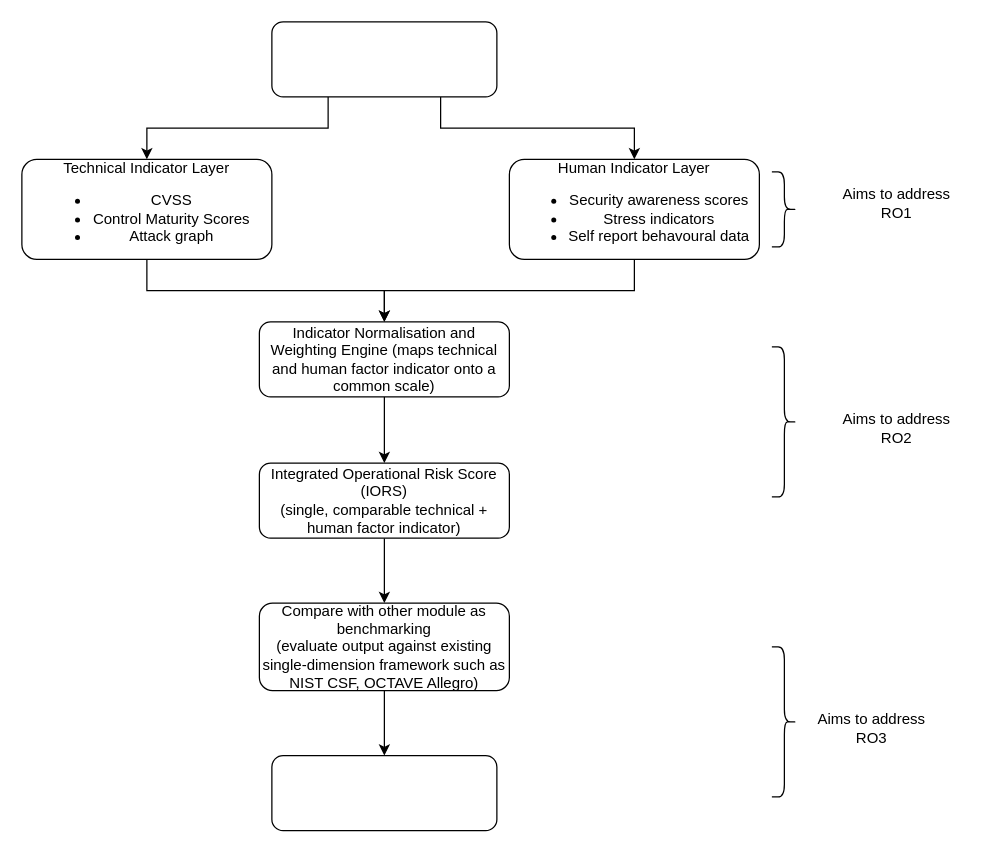
This 981x853 diagram has some shape labels left out. The shapes that lost their labels are listed below. From the top down, each one's box as (x1, y1, x2, y2) in pixels, then its label:
(271, 21, 497, 97): Secondary Evidence (40 peer-reviewed studies in SLR Assignment 1)
(271, 754, 497, 831): Risk prioritisation output and recommendation
